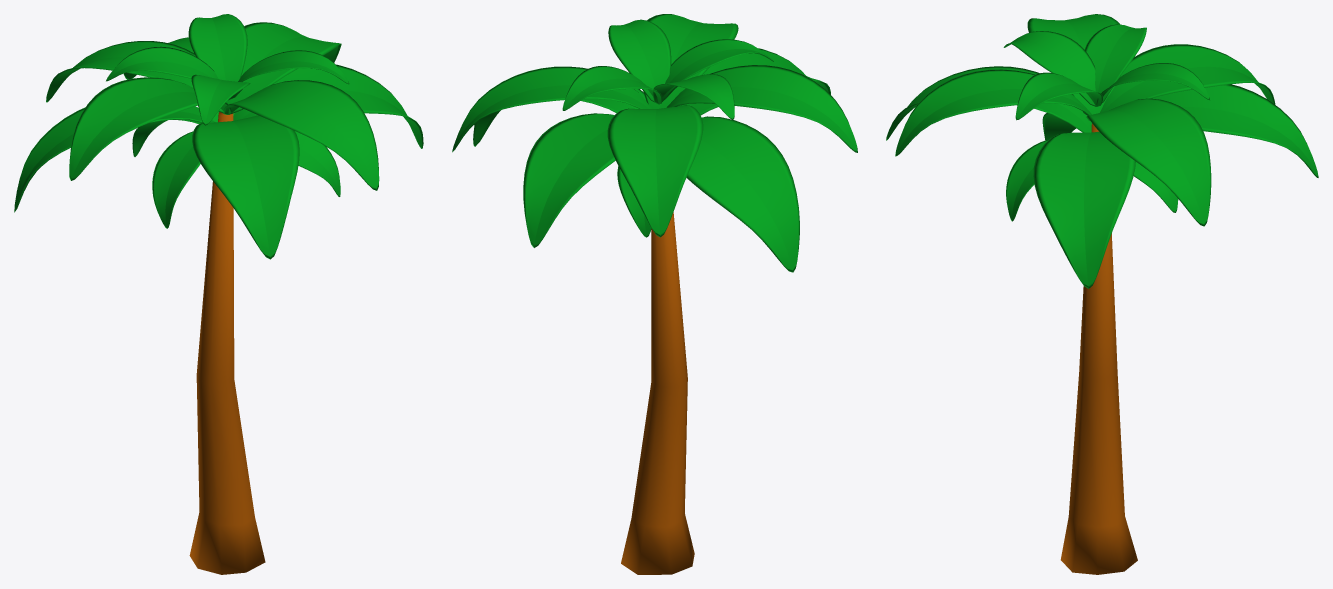
Rendered from PalmTree2.fbx.
The picture shows the model from 3 angles, left to right: view 1: azimuth 30°, elevation 25°; view 2: azimuth 150°, elevation 25°; view 3: azimuth 270°, elevation 25°; orthographic projection.
Visible parts, largest first — view 1: PalmTree2; view 2: PalmTree2; view 3: PalmTree2.
Part boxes in pixels (x1,y1,x2,y2): PalmTree2: (14, 14, 423, 574); PalmTree2: (452, 14, 857, 574); PalmTree2: (886, 14, 1318, 574).
Bounding box in the file's own units: 6.41 × 6.6 × 8.42.
